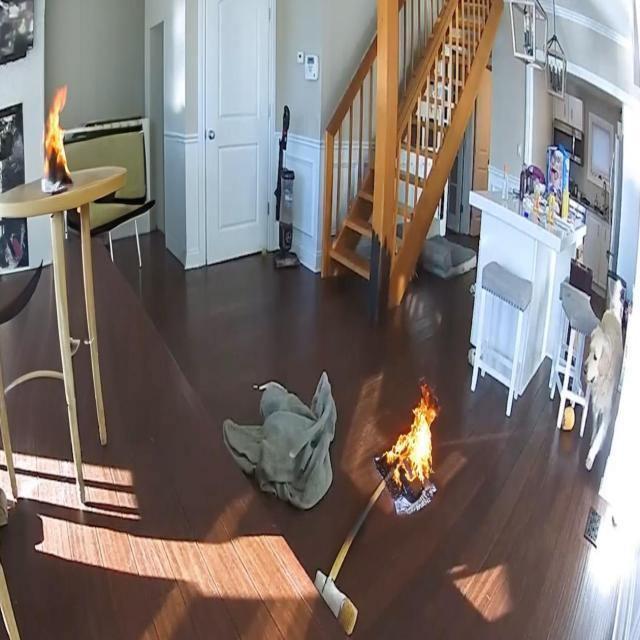smoke: (383, 372, 440, 489), (40, 88, 70, 180)
